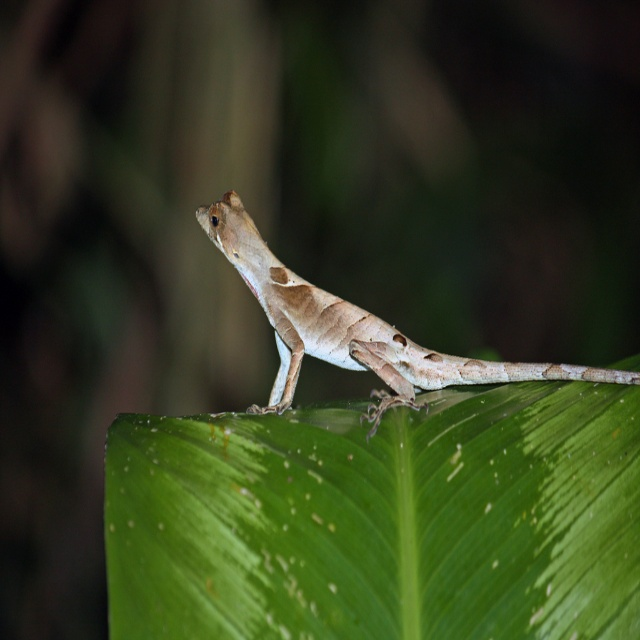Lizard: (189, 198, 613, 440)
